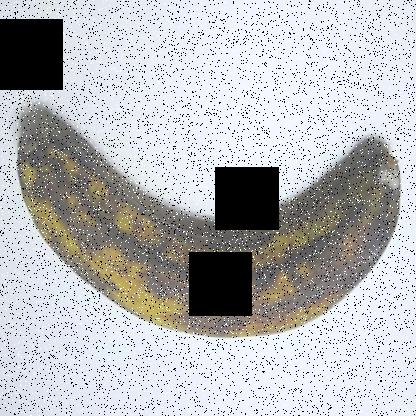overripe: (8, 86, 415, 361)
